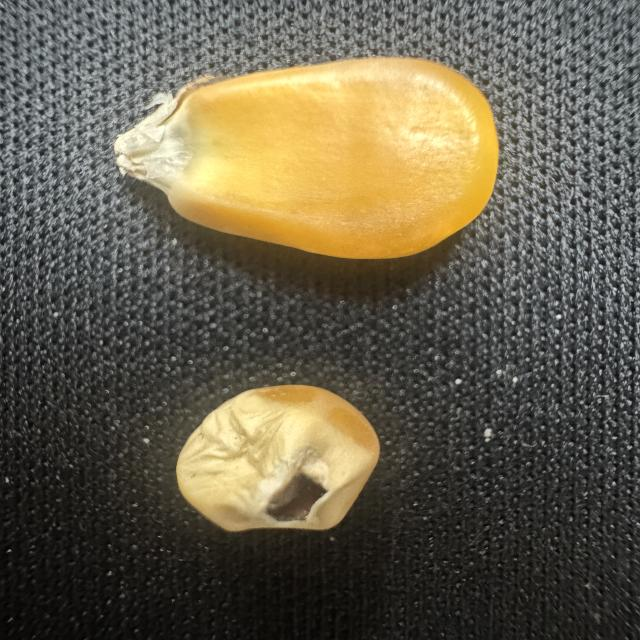Bad-Seed: (171, 384, 387, 550)
Good-Seed: (100, 46, 504, 264)
